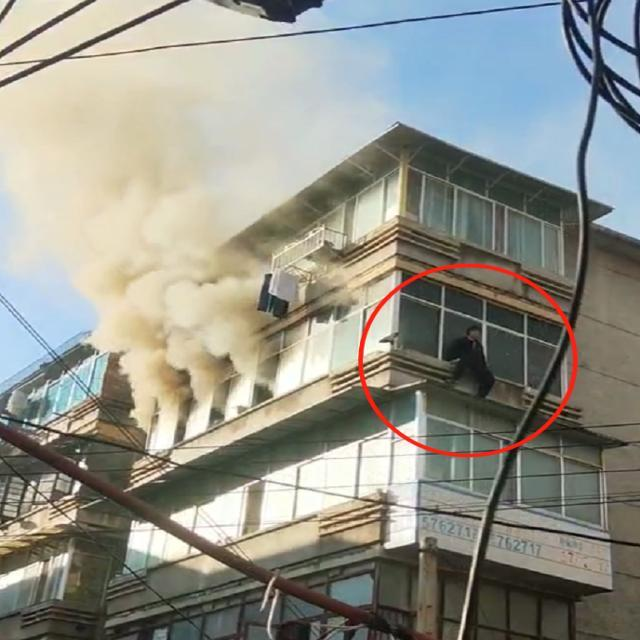Smoke: (0, 1, 288, 426)
